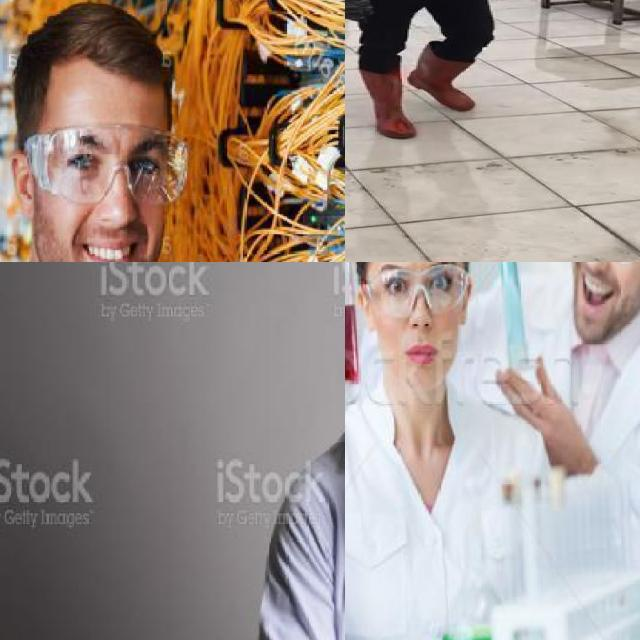No_Ear-Protection: (10, 153, 38, 221)
boots: (409, 44, 477, 110), (358, 70, 418, 138)
face_nomask: (49, 132, 170, 262), (380, 262, 461, 373), (571, 262, 640, 317)
glasses: (17, 121, 190, 212), (362, 264, 470, 322)
hand_noglove: (488, 354, 582, 454)
head_nohelmet: (8, 0, 168, 96)
person: (345, 262, 550, 636), (483, 262, 640, 640), (0, 8, 180, 262), (257, 262, 345, 640), (345, 0, 518, 139)
